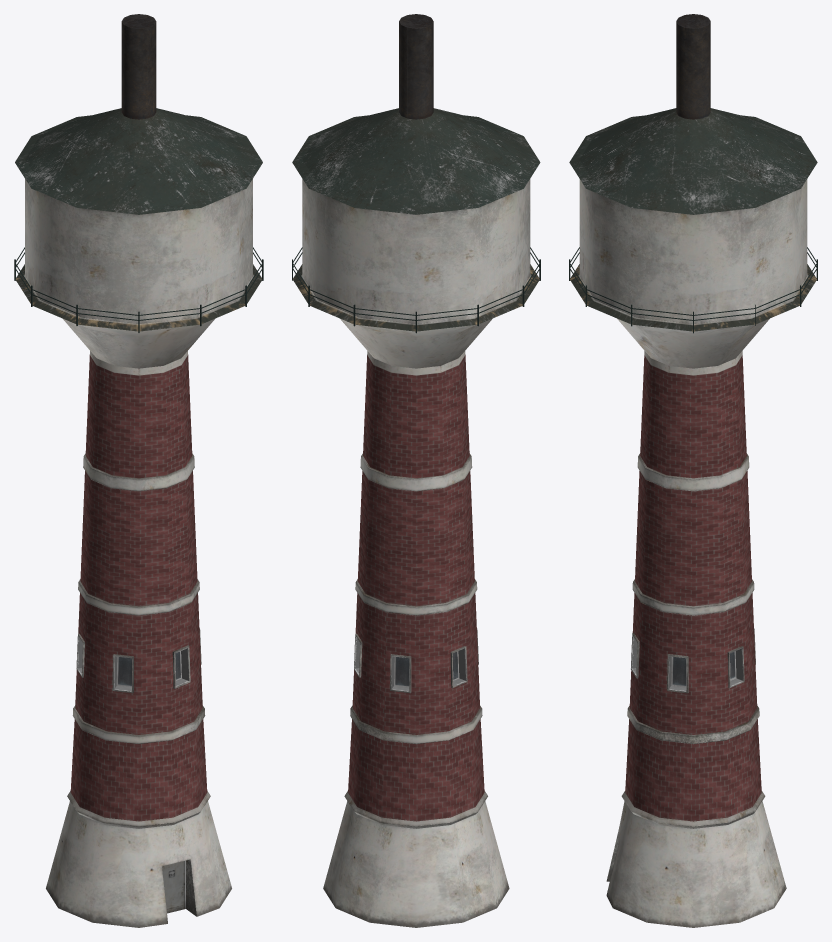
Rendered from water_tower_big.obj.
3 renders of one model, left to right at view 1: azimuth 30°, elevation 25°; view 2: azimuth 150°, elevation 25°; view 3: azimuth 270°, elevation 25°, orthographic.
Visible parts, largest first — view 1: water_tower_big; view 2: water_tower_big; view 3: water_tower_big.
Part boxes in pixels (x1,y1,x2,y2): water_tower_big: [14, 14, 263, 927]; water_tower_big: [292, 14, 540, 927]; water_tower_big: [569, 14, 817, 927].
Bounding box in the file's own units: 10.53 × 40.51 × 10.53.
Materials: 1 (1 with a texture image).
